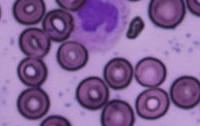B: (71, 0, 129, 53)
